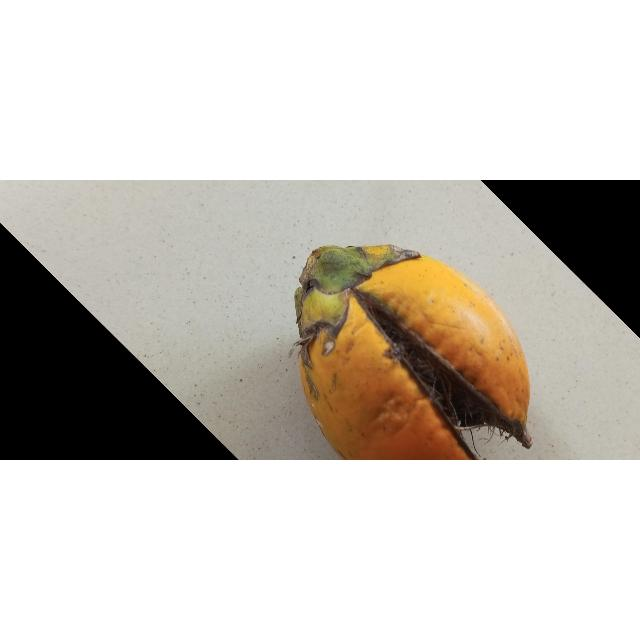damaged: (295, 246, 531, 461)
